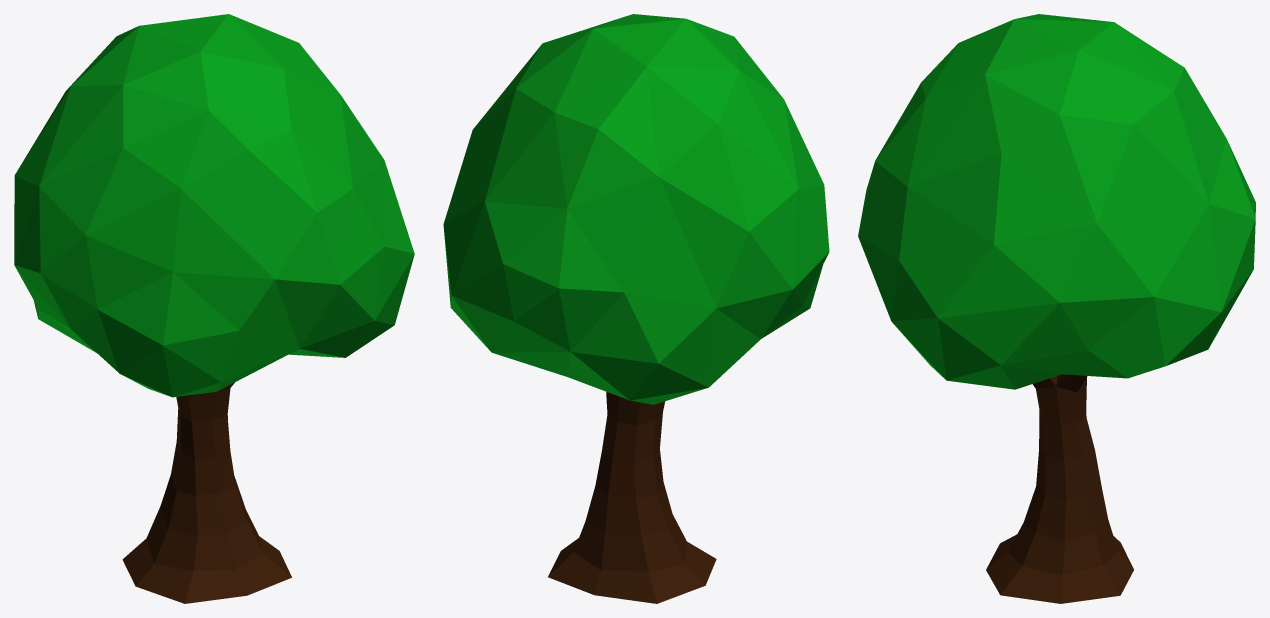
Rendered from arbre_2.FBX.
3 views of the same model, side by side, from view 1: azimuth 30°, elevation 25°; view 2: azimuth 150°, elevation 25°; view 3: azimuth 270°, elevation 25° (orthographic).
Visible parts, largest first — view 1: LowPoly_Tree_01_; view 2: LowPoly_Tree_01_; view 3: LowPoly_Tree_01_.
Boxes of the visible parts, x1=… form: LowPoly_Tree_01_: x1=14, y1=14, x2=414, y2=603; LowPoly_Tree_01_: x1=443, y1=14, x2=829, y2=603; LowPoly_Tree_01_: x1=858, y1=14, x2=1255, y2=603.
Size of the model in its own units: 15.04 by 22.24 by 14.98.
